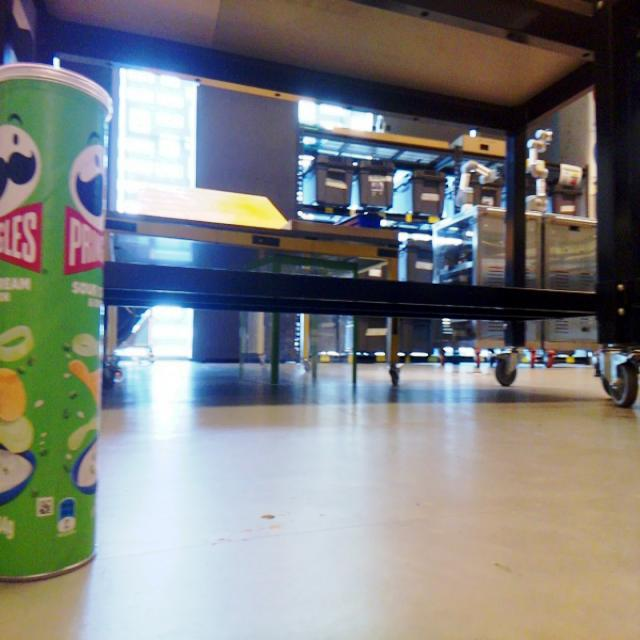greenpringles: (0, 49, 122, 595)
